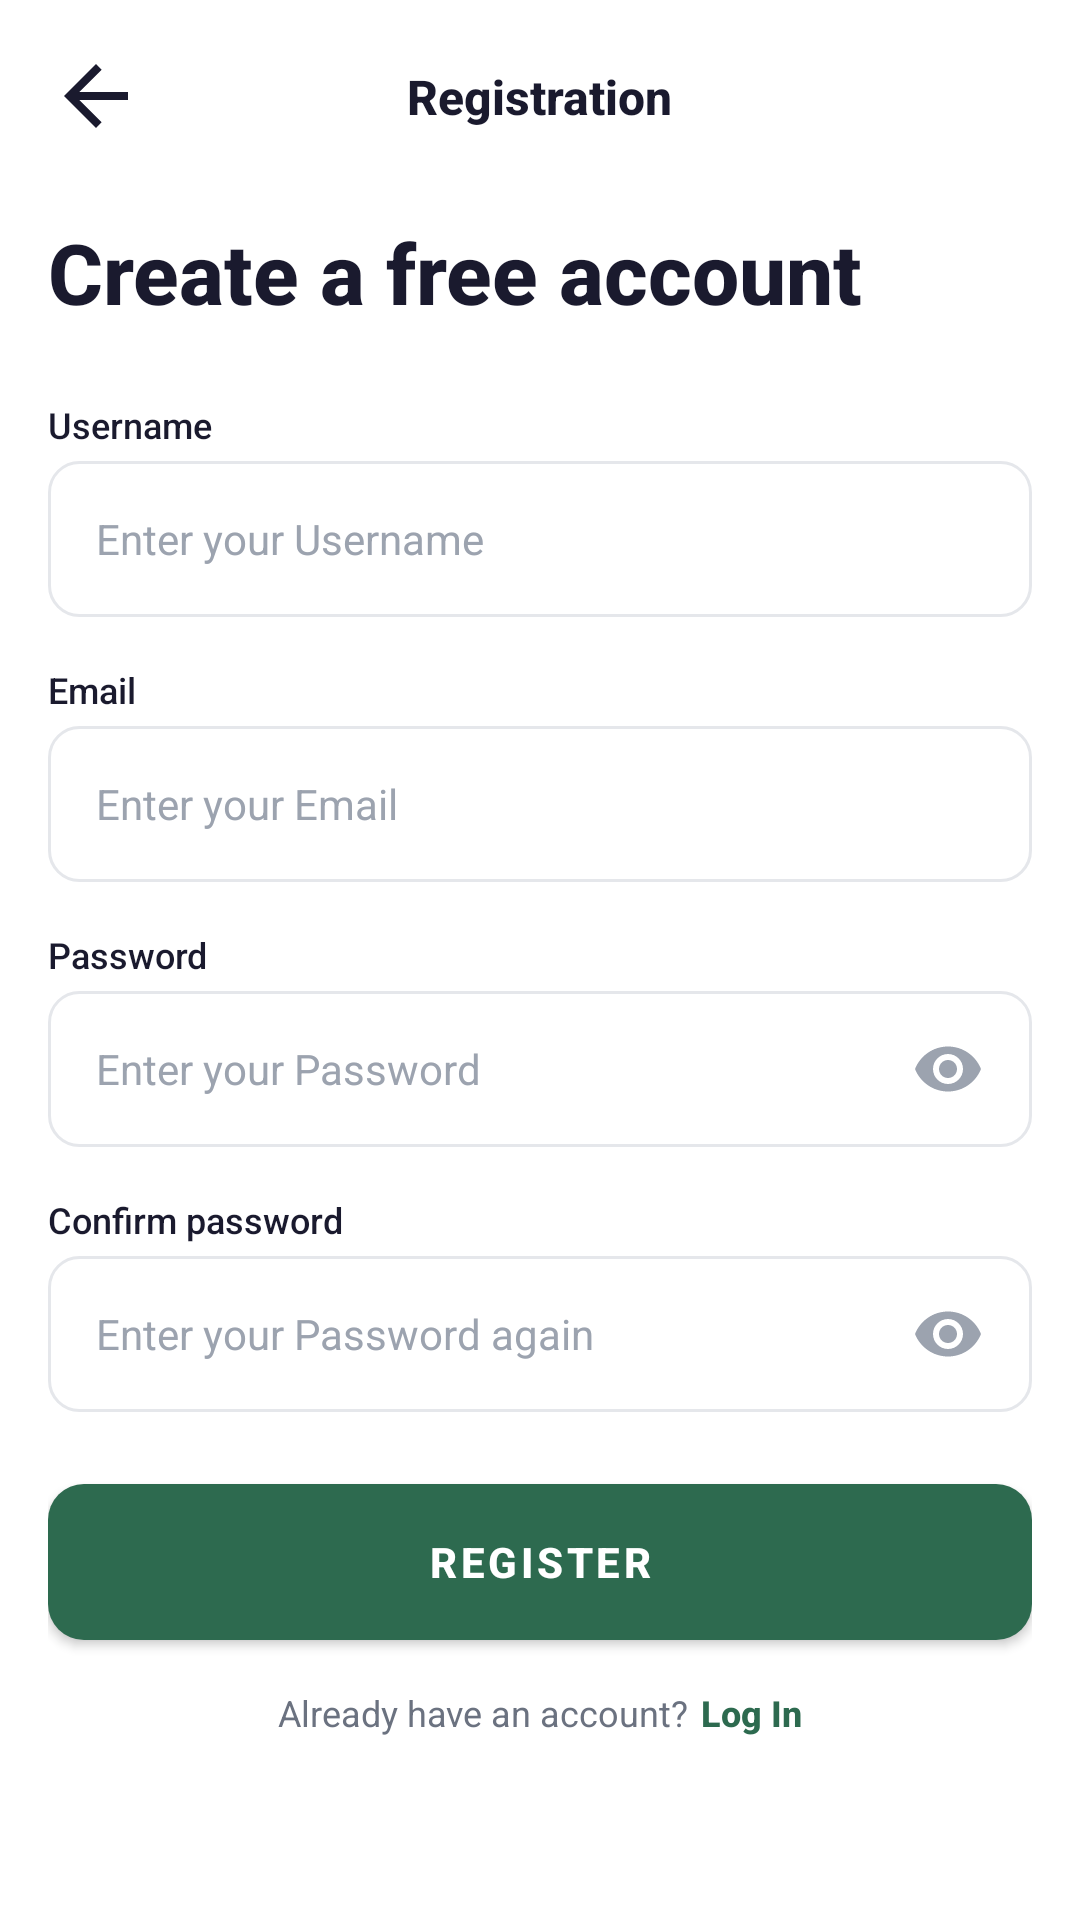

Named icons in this screenshot (1080 x 1920) and their centers, (x,y):
Back: (96,96)
Toggle confirm password visibility: (948,1334)
Toggle password visibility: (948,1069)
